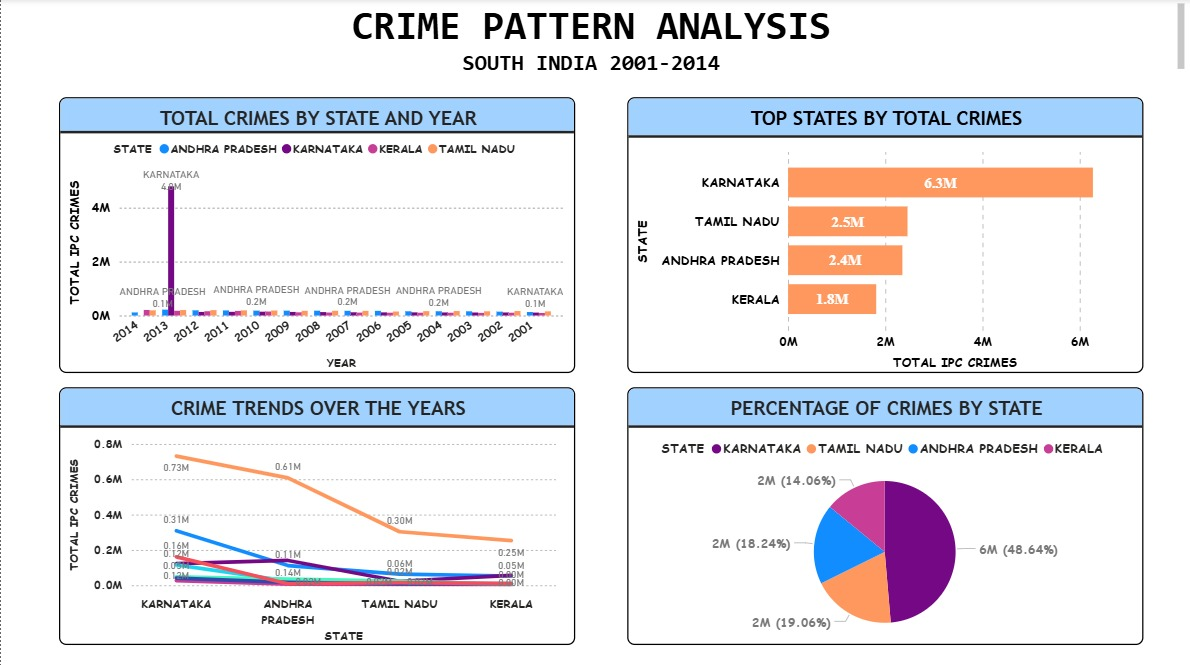

What the dashboard file says about the page in this screenshot:
{"tool":"powerbi","page":{"name":"Crime Pattern Analysis Dashboard","canvas":[1280,720],"ordinal":4},"visuals":[{"type":"textbox","box":[0,0,1279.6,84],"z":2000},{"type":"clusteredColumnChart","title":"TOTAL CRIMES BY STATE AND YEAR","fields":{"Category":["Sheet1.YEAR"],"Y":["Sum(Sheet1.TOTAL IPC CRIMES)"],"Series":["Sheet1.STATE/UT"]},"box":[62.5,105.6,555.8,297.3],"z":3000},{"type":"lineChart","title":"CRIME TRENDS OVER THE YEARS ","fields":{"Category":["Sheet1.STATE/UT"],"Y":["Sum(Sheet1.BURGLARY)","Sum(Sheet1.CRUELTY BY HUSBAND OR HIS RELATIVES)","Sum(Sheet1.DOWRY DEATHS)","Sum(Sheet1.HURT/GREVIOUS HURT)","Sum(Sheet1.KIDNAPPING & ABDUCTION)","Sum(Sheet1.MURDER)","Sum(Sheet1.RAPE)","Sum(Sheet1.ROBBERY)"]},"box":[62.5,417.9,555.8,277.9],"z":4000},{"type":"clusteredBarChart","title":"TOP STATES BY TOTAL CRIMES","fields":{"Category":["Sheet1.STATE/UT","Sheet1.DISTRICT"],"Y":["Sum(Sheet1.TOTAL IPC CRIMES)"]},"box":[674.3,105.6,555.8,297.3],"z":5000},{"type":"pieChart","title":"PERCENTAGE OF CRIMES BY STATE","fields":{"Category":["Sheet1.STATE/UT"],"Y":["Sum(Sheet1.TOTAL IPC CRIMES)"]},"box":[674.3,417.9,555.8,277.9],"z":6000}]}

Visuals, with their boxes in screenshot pixels (x1, y1, x2, y2), scaled from the page's 1280x720 canvas onto the 1190x665 screenshot:
textbox: left=0, top=0, right=1189, bottom=78
"TOTAL CRIMES BY STATE AND YEAR" clusteredColumnChart: left=58, top=98, right=575, bottom=372
"CRIME TRENDS OVER THE YEARS " lineChart: left=58, top=386, right=575, bottom=643
"TOP STATES BY TOTAL CRIMES" clusteredBarChart: left=627, top=98, right=1144, bottom=372
"PERCENTAGE OF CRIMES BY STATE" pieChart: left=627, top=386, right=1144, bottom=643
